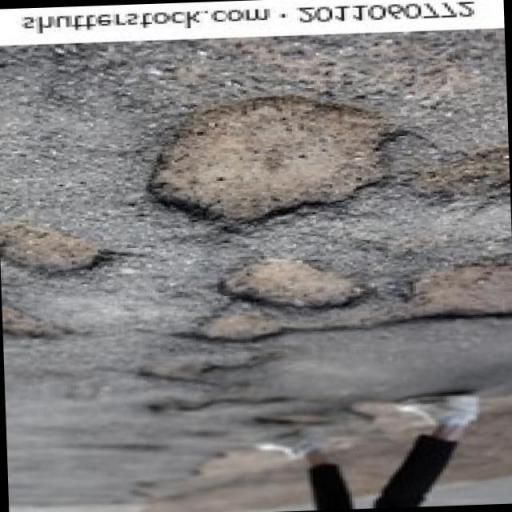pothole: (147, 96, 383, 227), (214, 259, 372, 312), (2, 224, 126, 274)
